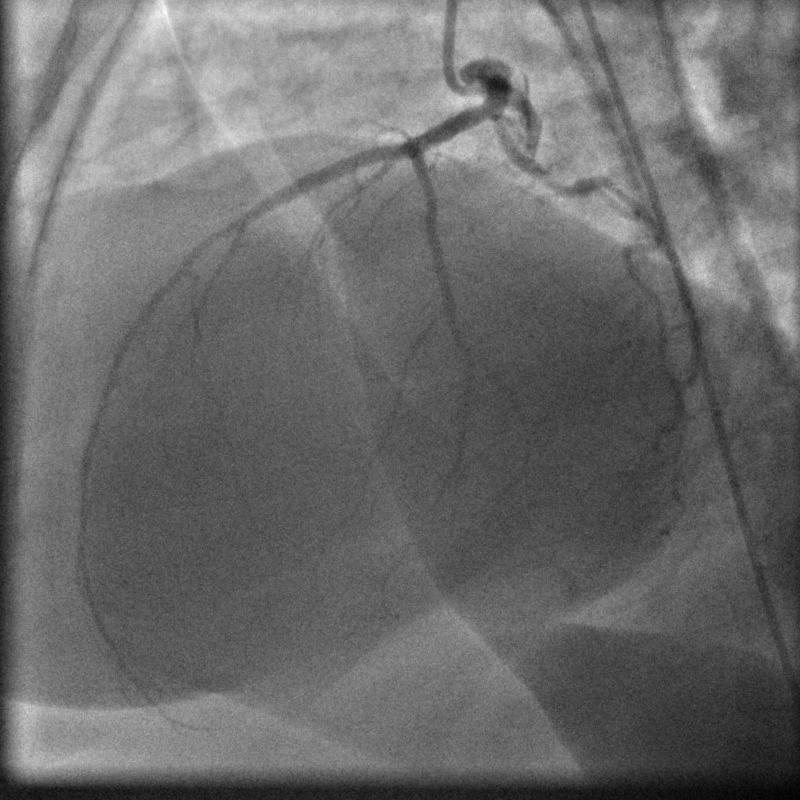Stenosis: (540, 164, 585, 206)
